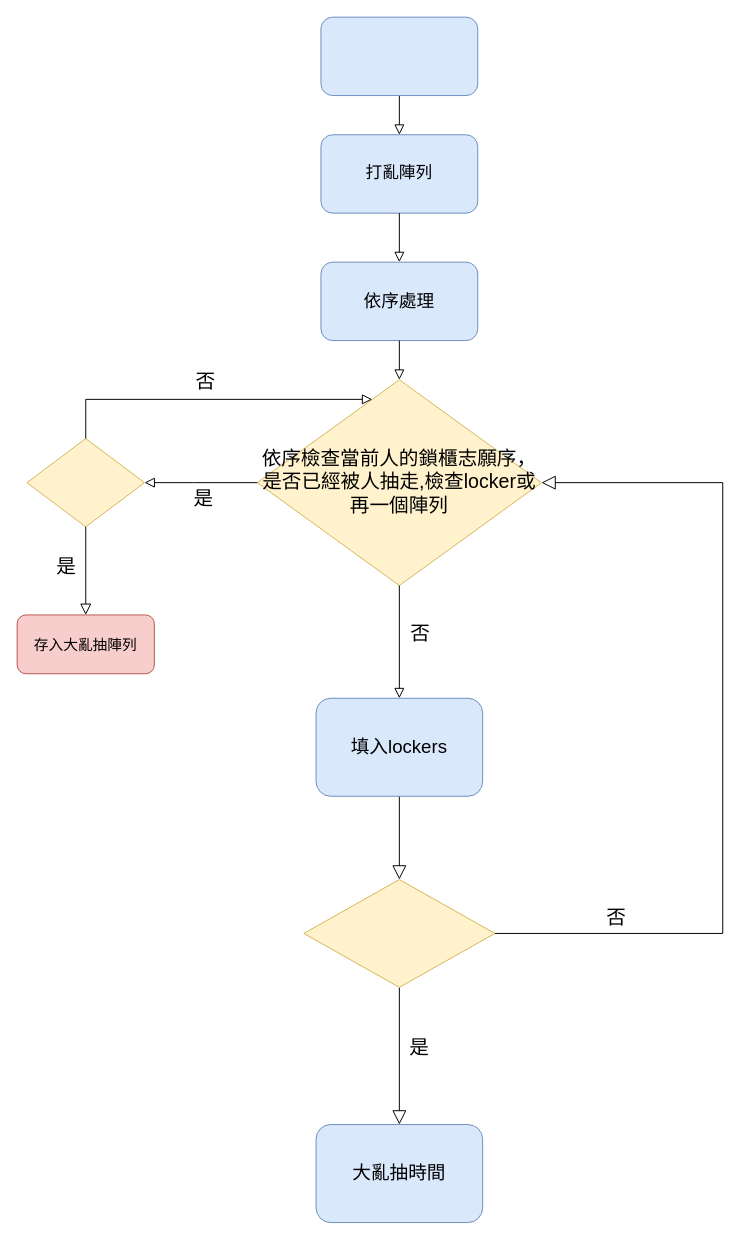
This 754x1240 diagram has some shape labels left out. Each missing label, with the box of its shape:
志願序是否結束: (26, 438, 145, 527)
是否為最後一位: (303, 879, 495, 987)
陣列拉取 REGISTRATIONs 內的所有ID(or全部資料): (320, 16, 478, 96)
